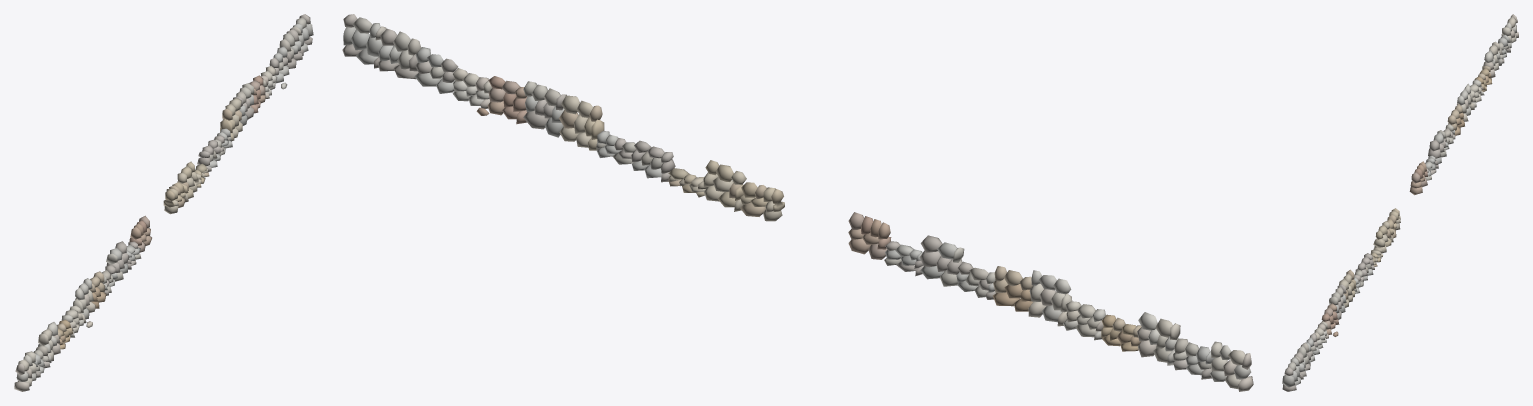
File: farm_-5_5_near.glb
3 renders of one model, left to right at view 1: azimuth 90°, elevation 25°; view 2: azimuth 150°, elevation 25°; view 3: azimuth 270°, elevation 25°, orthographic. The views are drawn at different scales.
Parts seen in each view (by area): view 1: geometry_0; view 2: geometry_0; view 3: geometry_0.
Boxes of the visible parts, box(x1,y1,x2,y2) form: geometry_0: box(14, 14, 313, 391); geometry_0: box(342, 14, 1253, 391); geometry_0: box(1282, 14, 1518, 391).
Size of the model in its own units: 38.15 by 3.47 by 12.03.
